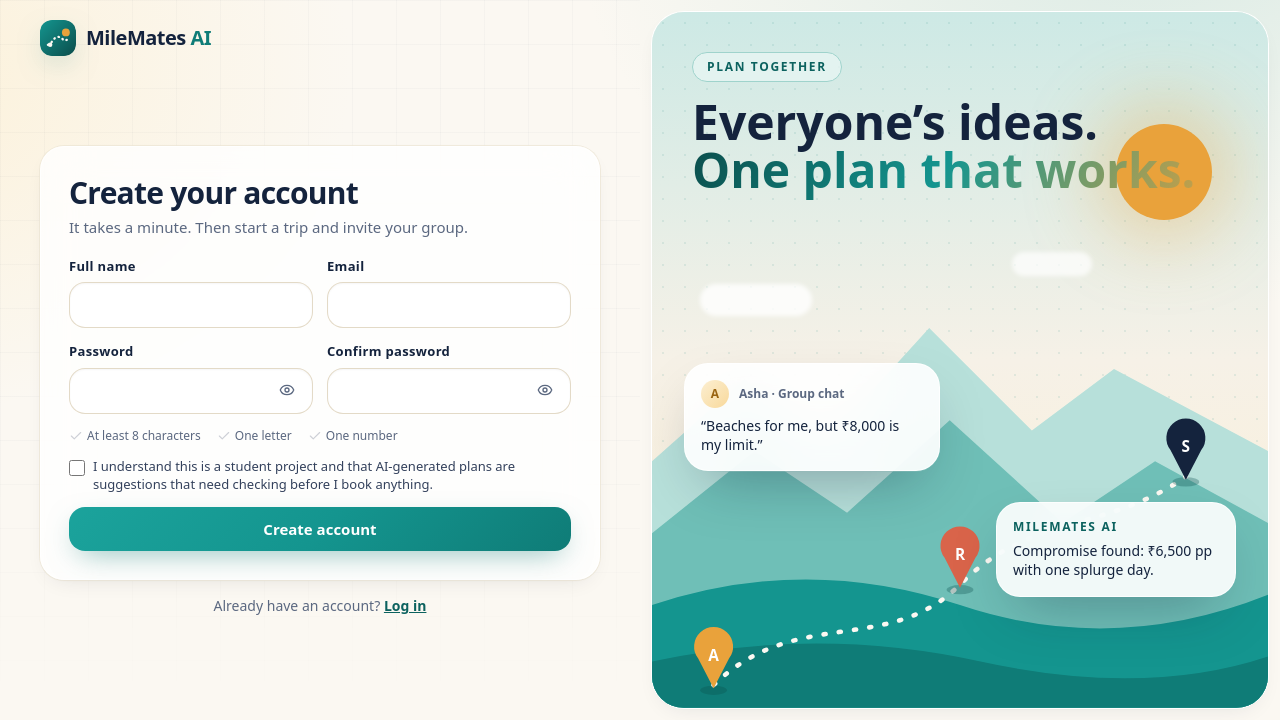
Test case: forms › registration shows server errors such as duplicate email
Type "Asha Patel" into the field labelled "Full name" at (191, 305), box [69, 282, 313, 328]
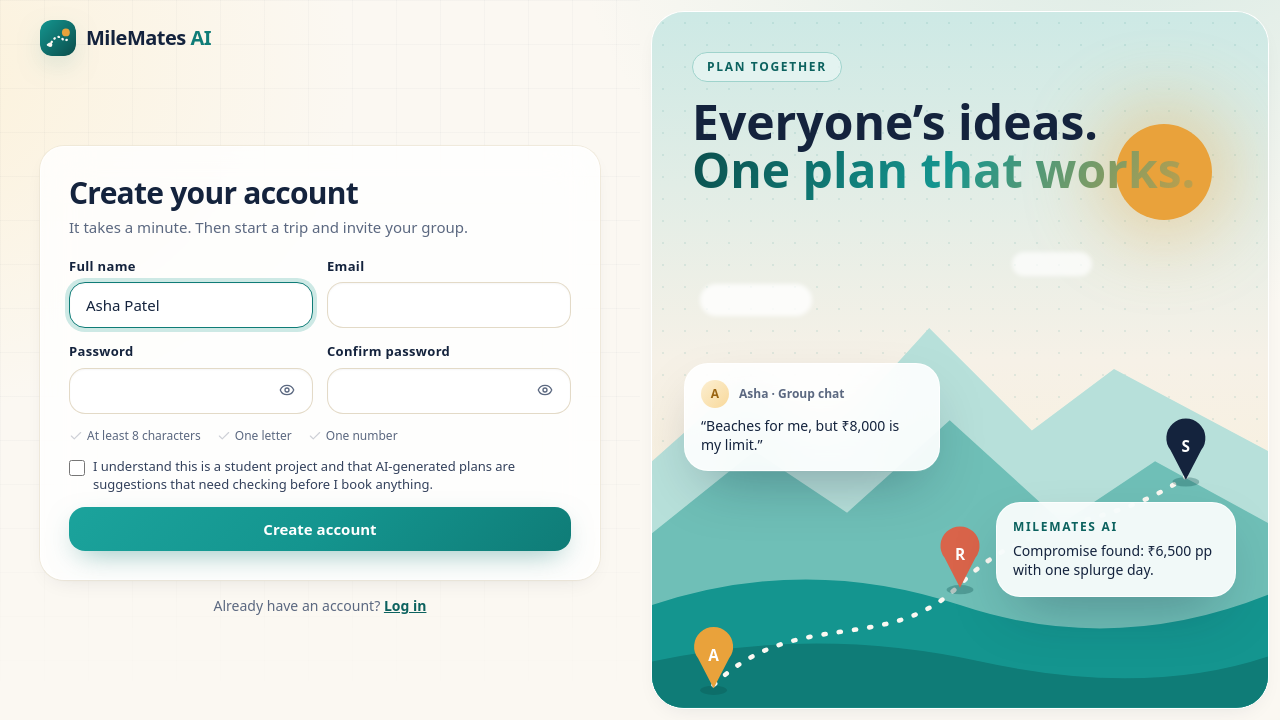
Type "asha@example.com" into the field labelled "Email" at (449, 305), box [327, 282, 571, 328]
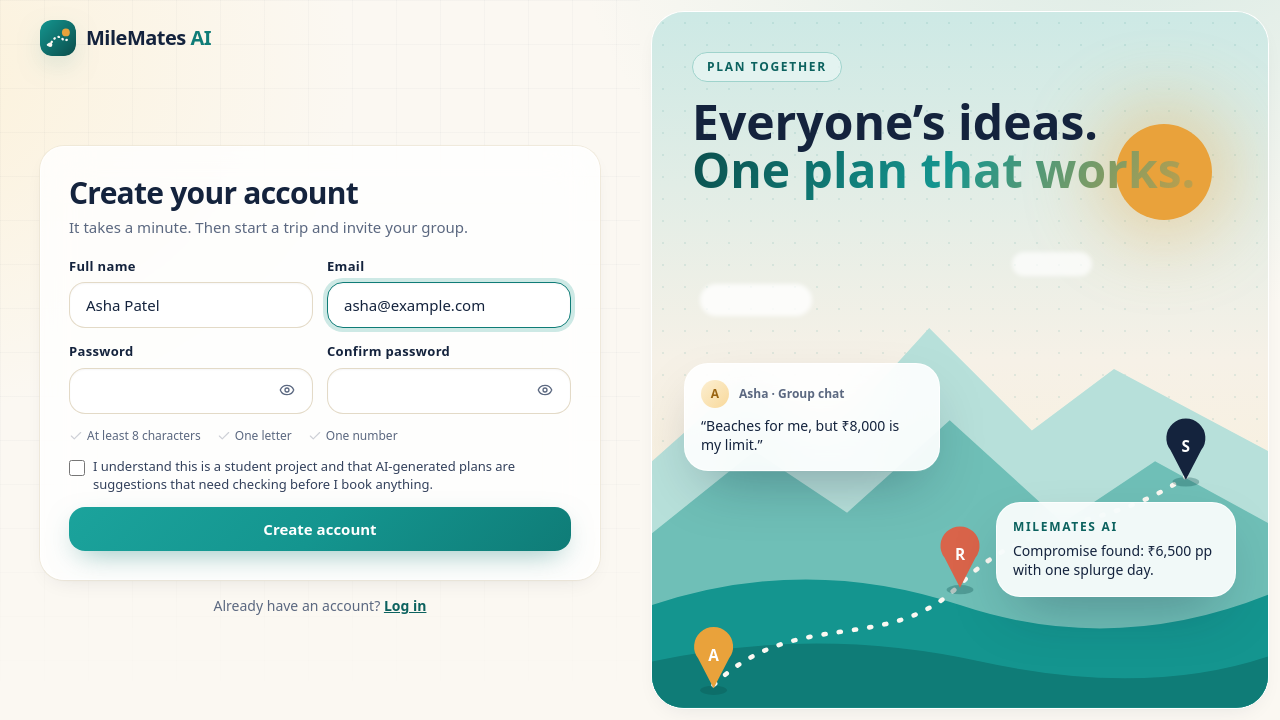
Type "Sup3rSecret" into the password field labelled "Password" at (191, 391), box [69, 368, 313, 414]
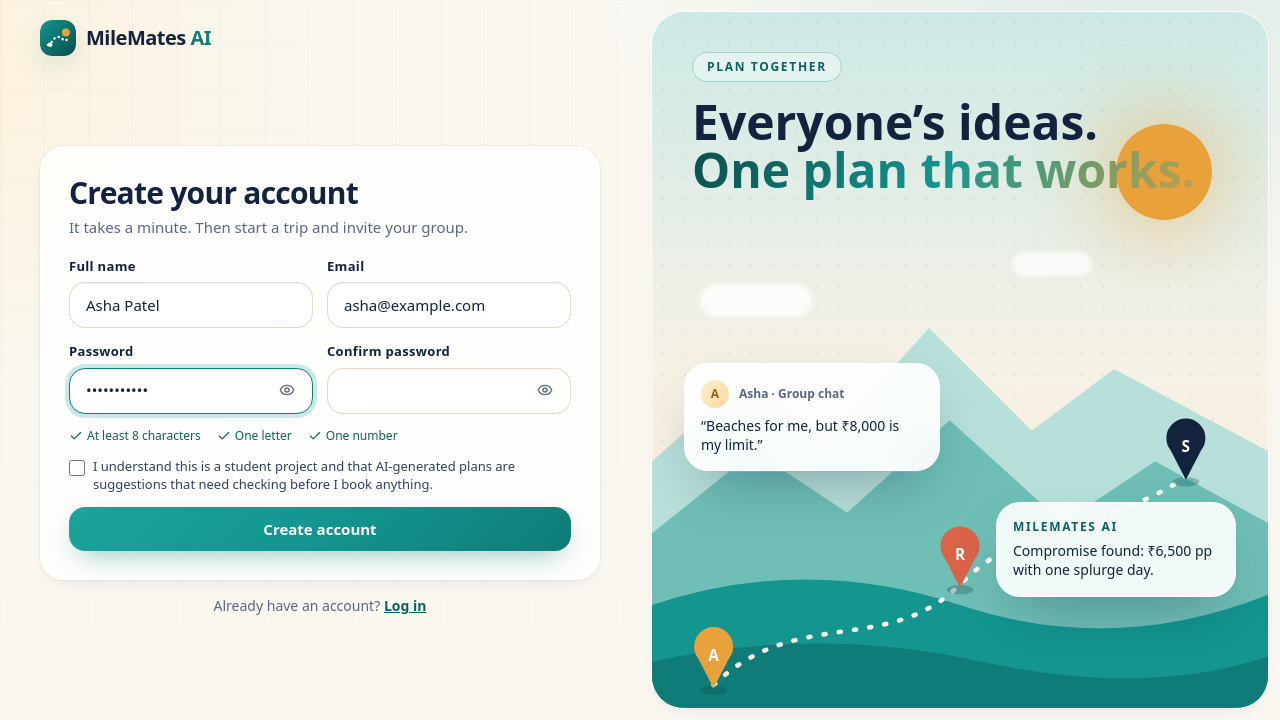
Type "Sup3rSecret" into the password field labelled "Confirm password" at (449, 391), box [327, 368, 571, 414]
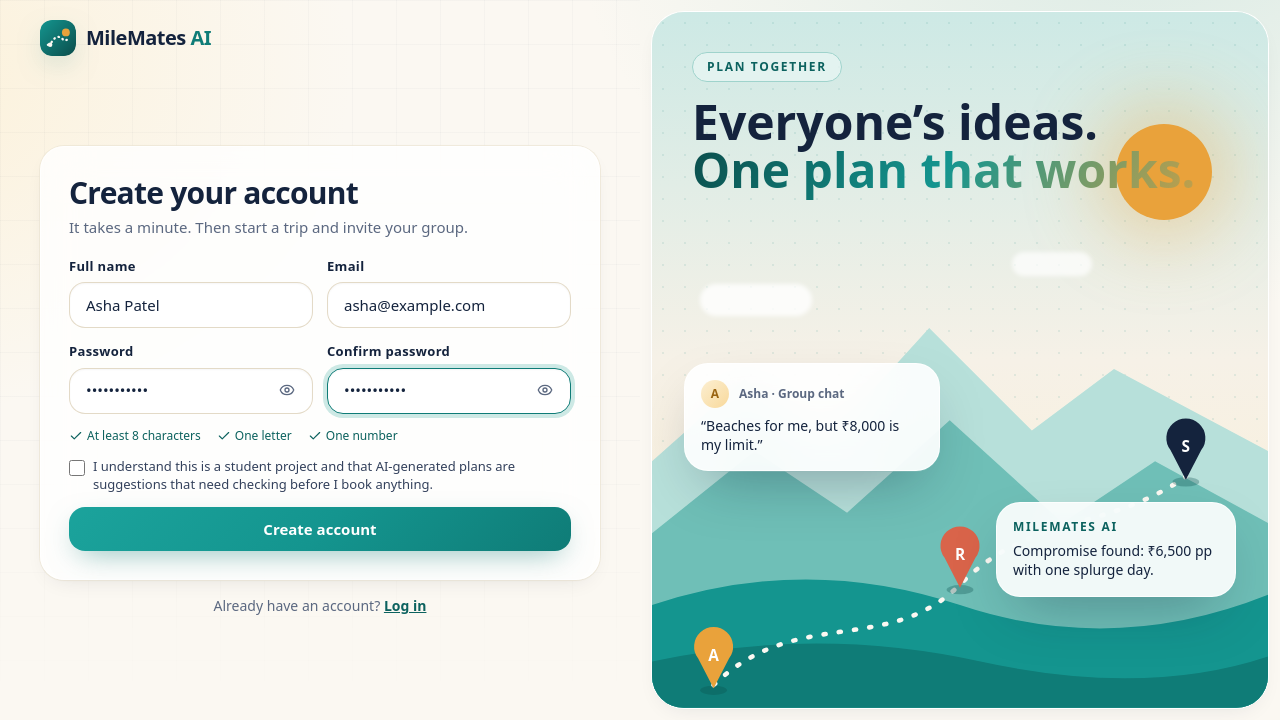
Click the checkbox at (77, 468), box [69, 460, 85, 476]
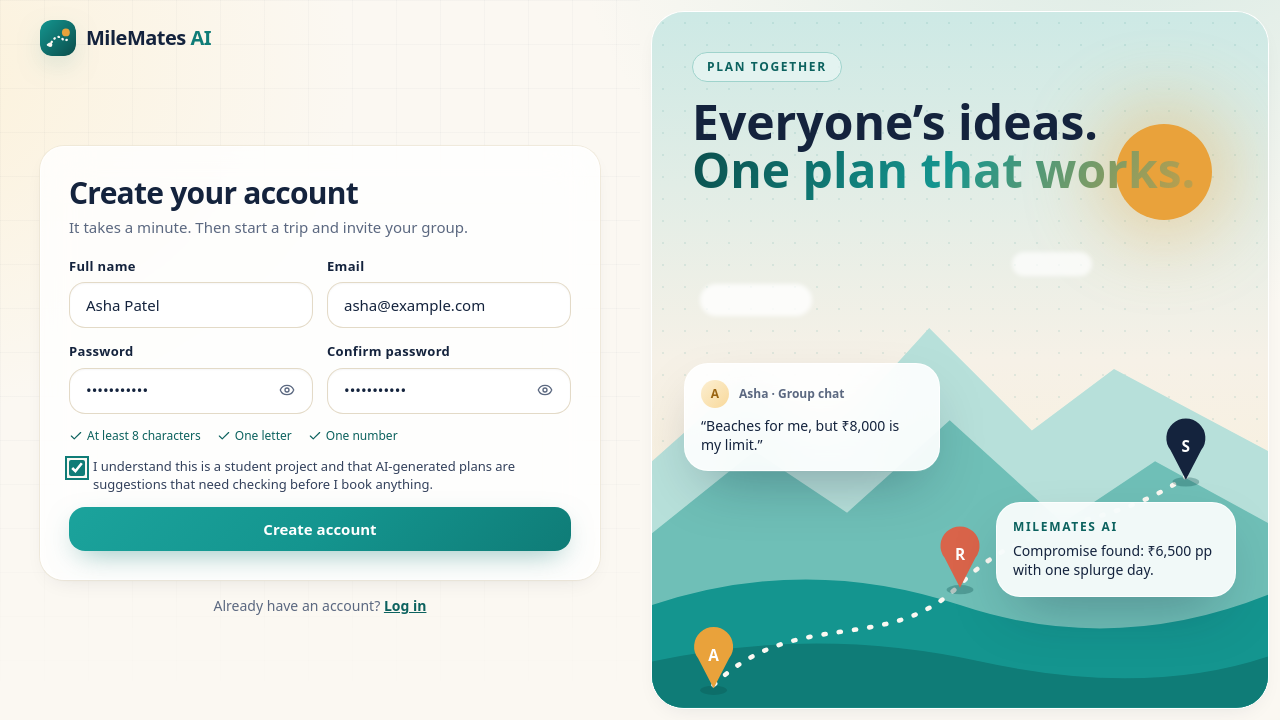
Click the button "Create account" at (320, 529), box [69, 507, 571, 551]
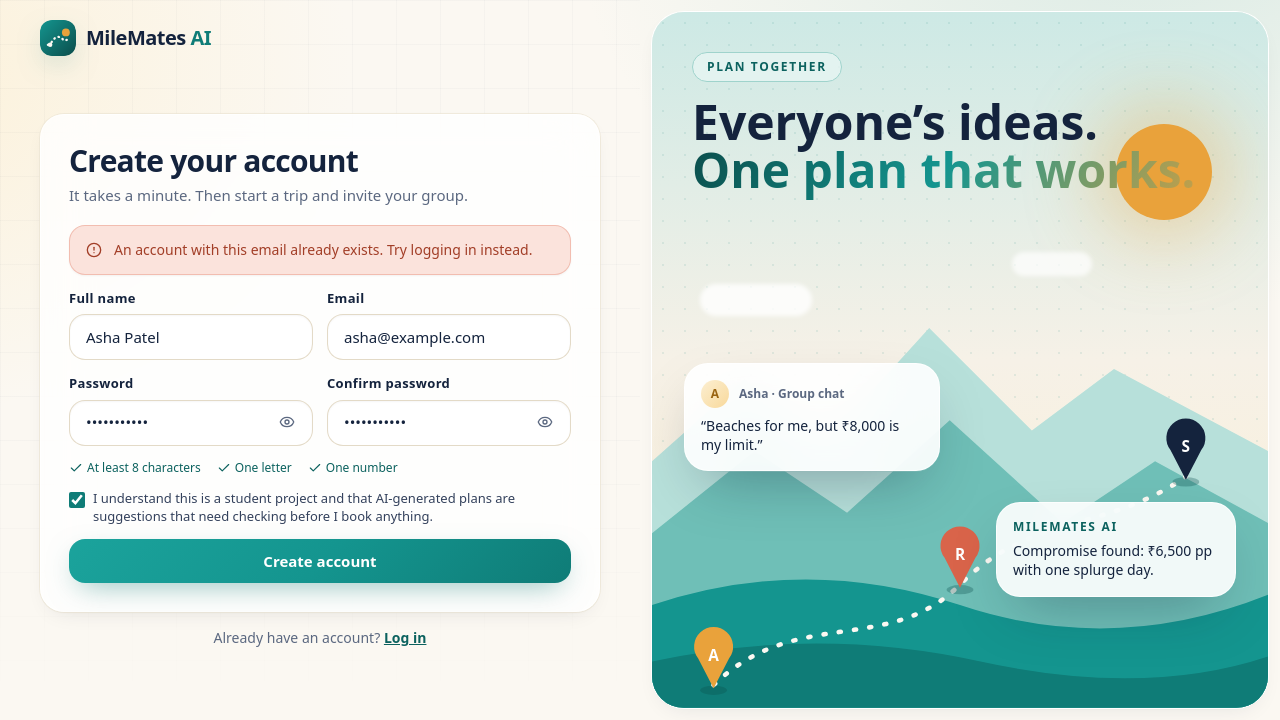
Check: the message shows "already exists", box [114, 240, 532, 259]
